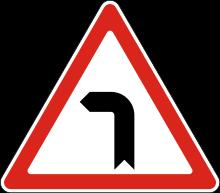Left hand curve: (11, 8, 213, 189)
